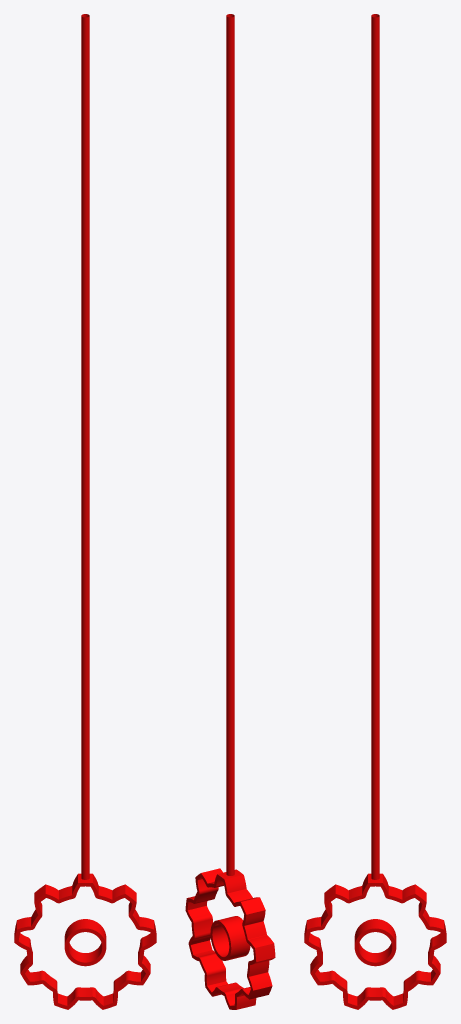
The model's file is cutter1_gear.fbx.
3 views of the same model, side by side, from view 1: azimuth 90°, elevation 25°; view 2: azimuth 210°, elevation 25°; view 3: azimuth 270°, elevation 25° (orthographic).
Visible parts, largest first — view 1: Cutter1_Gear; view 2: Cutter1_Gear; view 3: Cutter1_Gear.
Boxes of the visible parts, <box> form: Cutter1_Gear: <box>14,14,156,1009</box>; Cutter1_Gear: <box>185,14,275,1009</box>; Cutter1_Gear: <box>304,14,446,1009</box>.
Bounding box in the file's own units: 16.87 × 823 × 107.
